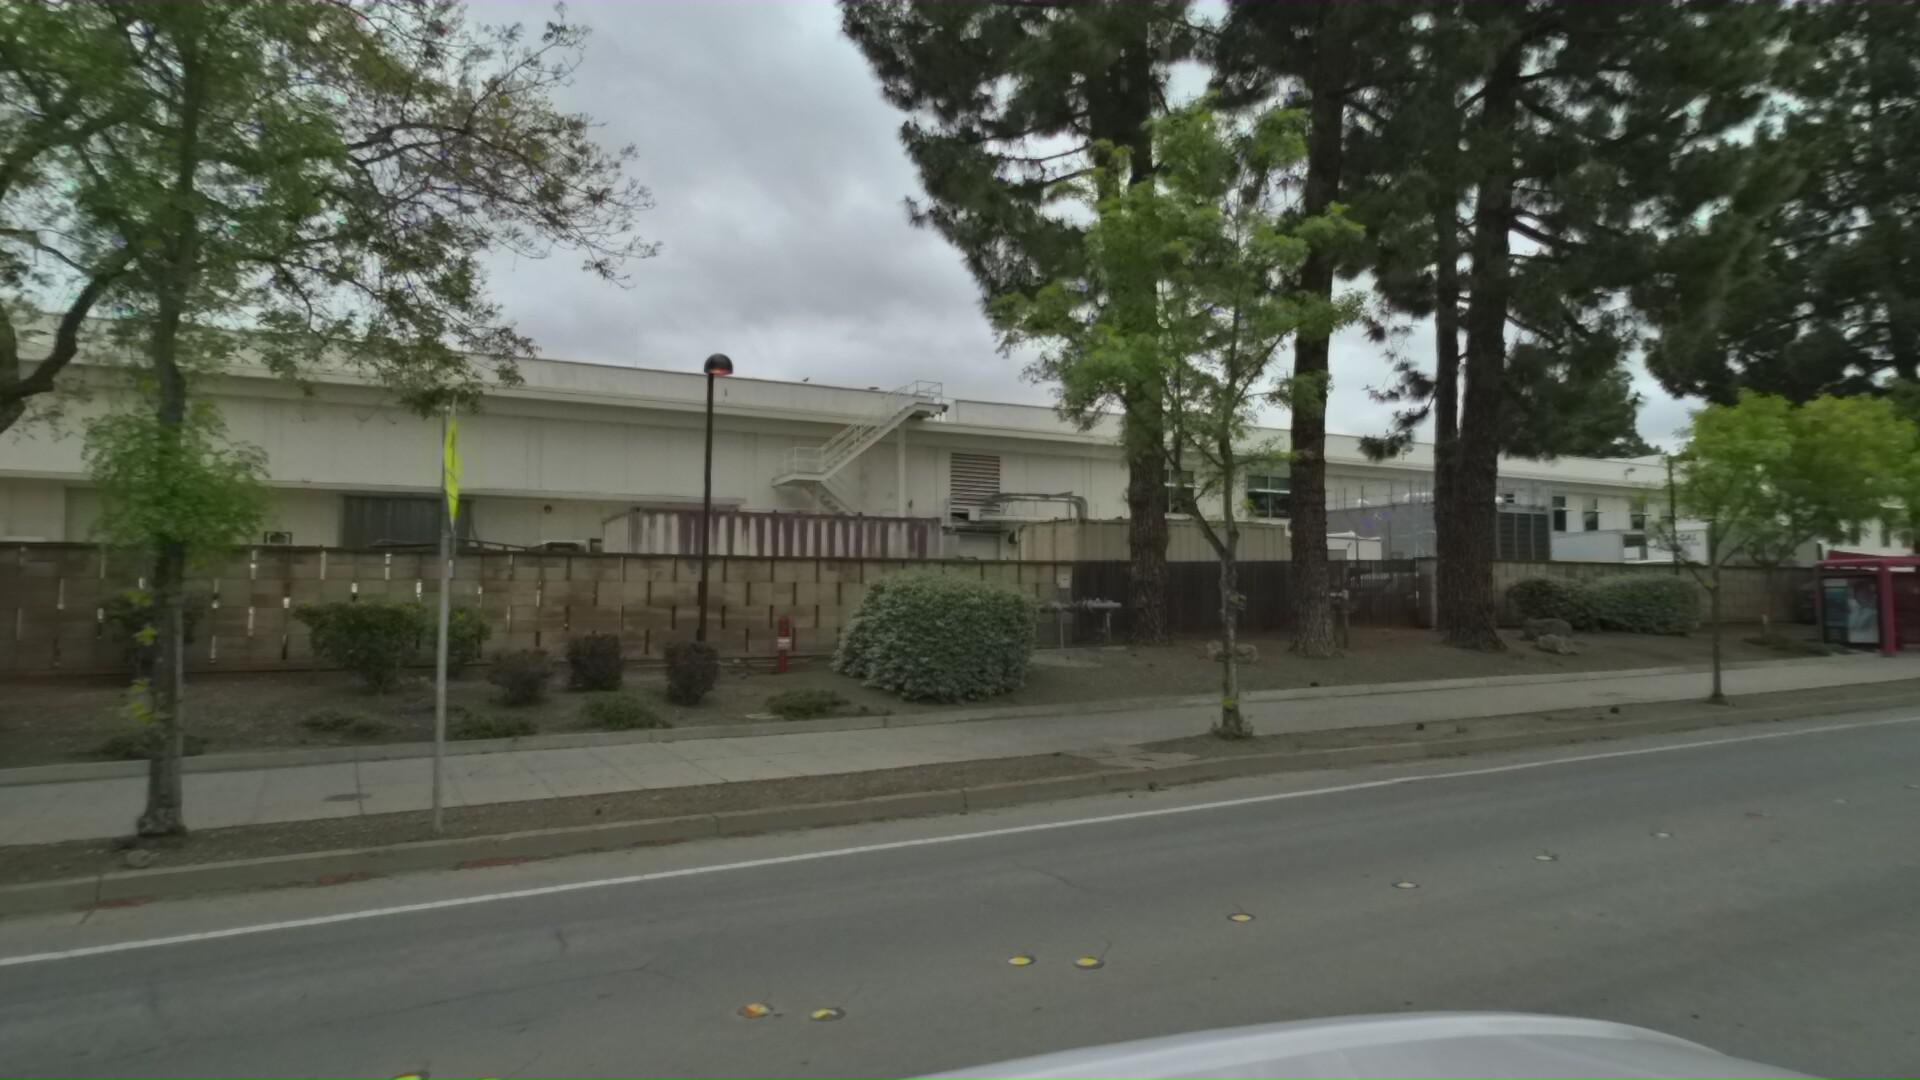truck: (1601, 514, 1820, 615)
